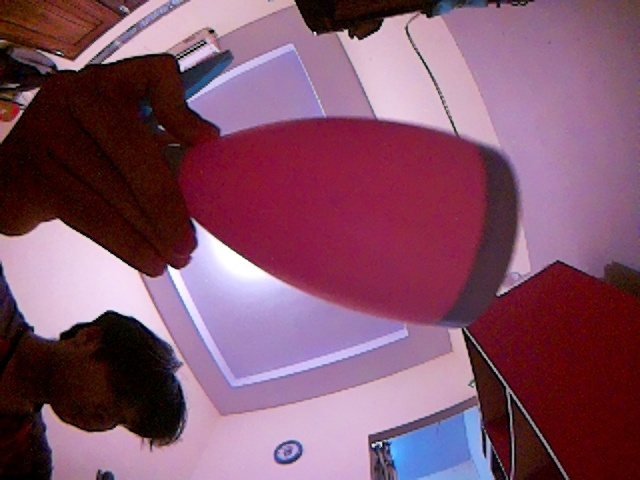korban: (191, 115, 525, 322)
